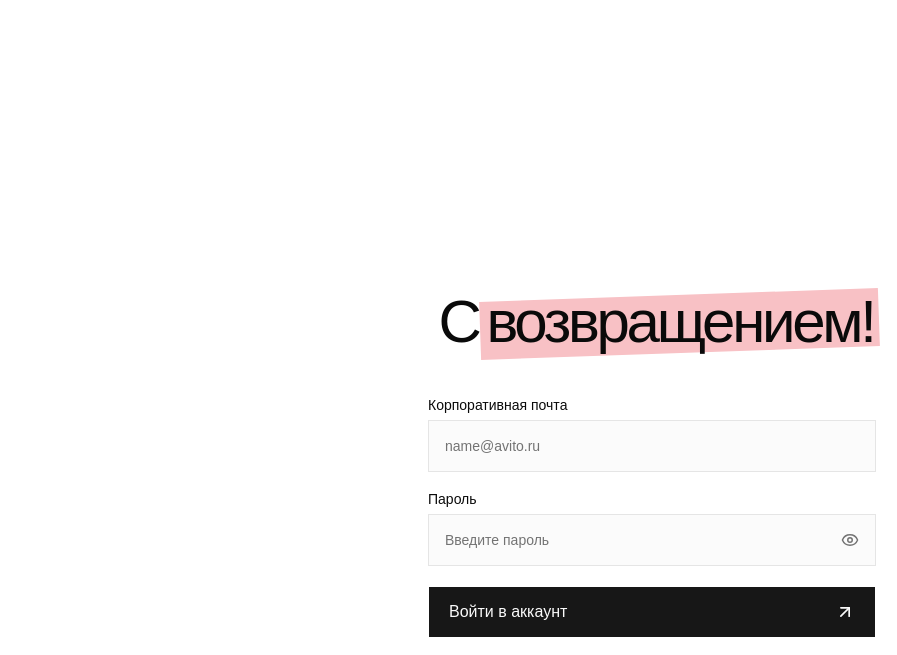
Test: JWT authentication and protected routes › logs in with Axios, blocks duplicate submits and populates all auth consumers
In the field labelled "Корпоративная почта": (652, 446) [428,420,876,472], type "intern@avito.ru"
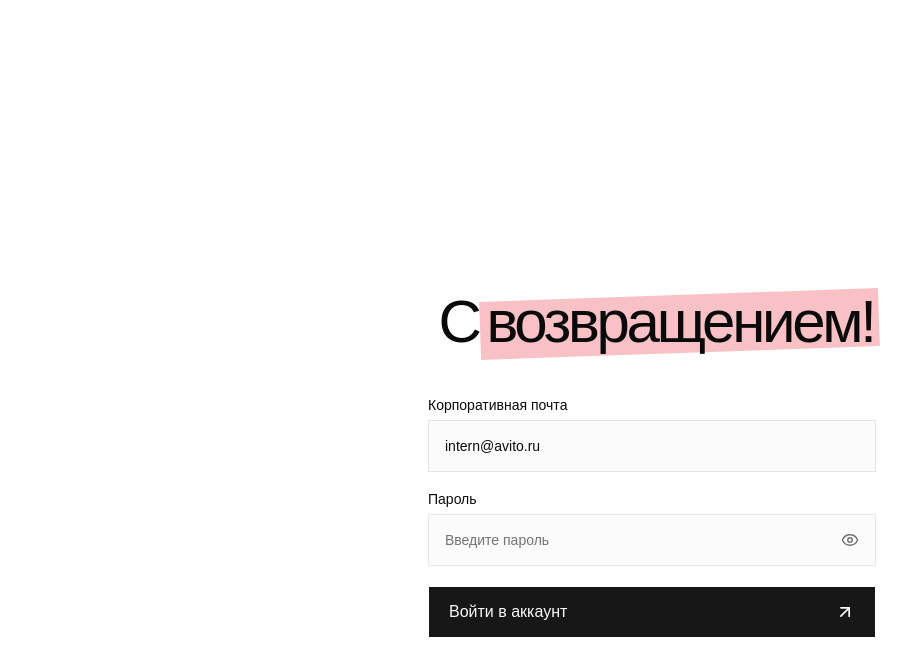
In the password field labelled "Пароль": (652, 540) [428,514,876,566], type "password123"
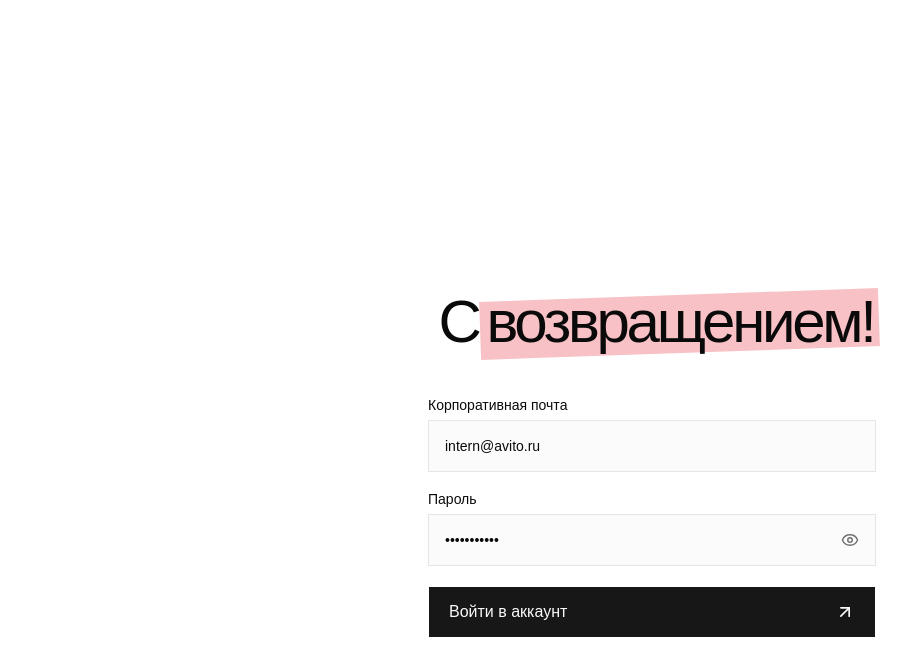
Click the button "Войти в аккаунт": (508, 612) [428,586,876,638]
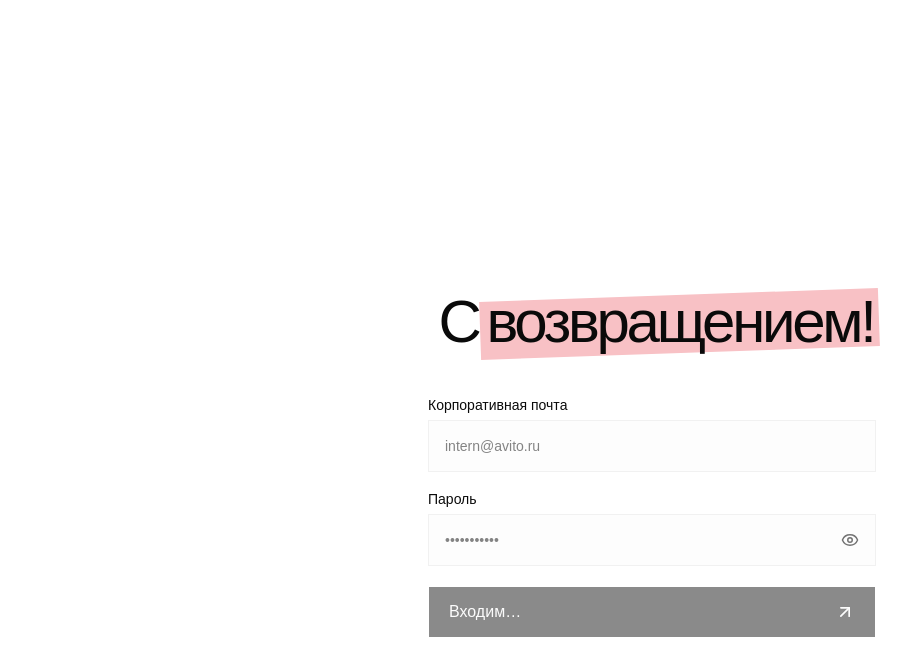
Result: the button "Входим…" is disabled at [428,586,876,638]
Submit the form "Входим…", box [428,398,876,638]
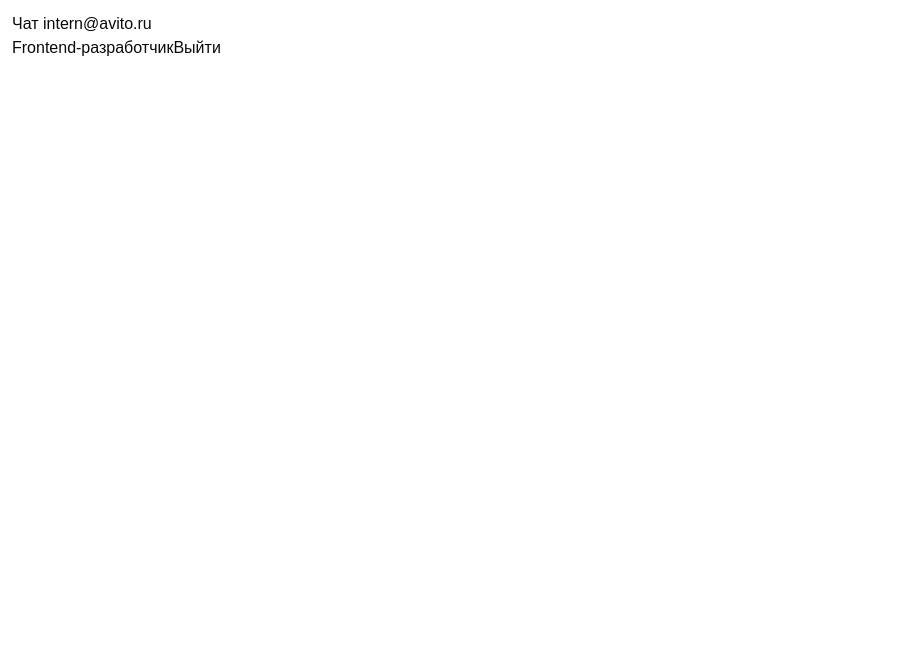
Result: the heading "Чат intern@avito.ru" is shown at [12,15,152,32]
Result: the text "Frontend-разработчик" is shown at [12,39,173,56]
